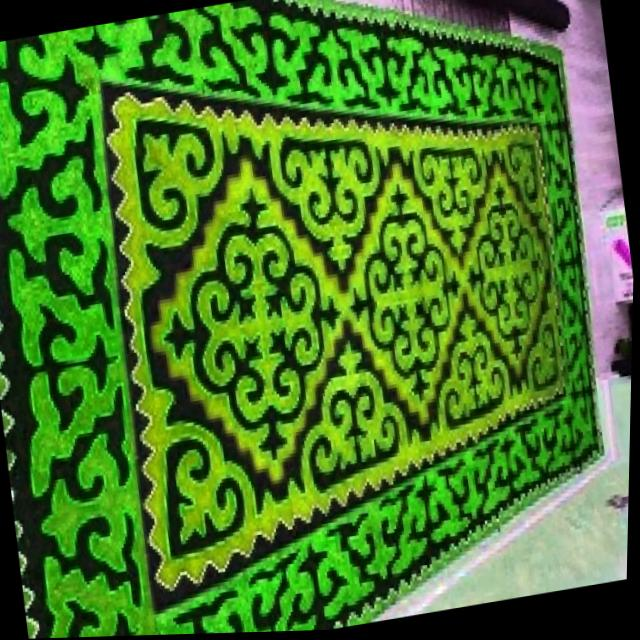Unity: (156, 173, 346, 474), (348, 175, 460, 408), (461, 165, 548, 367)
